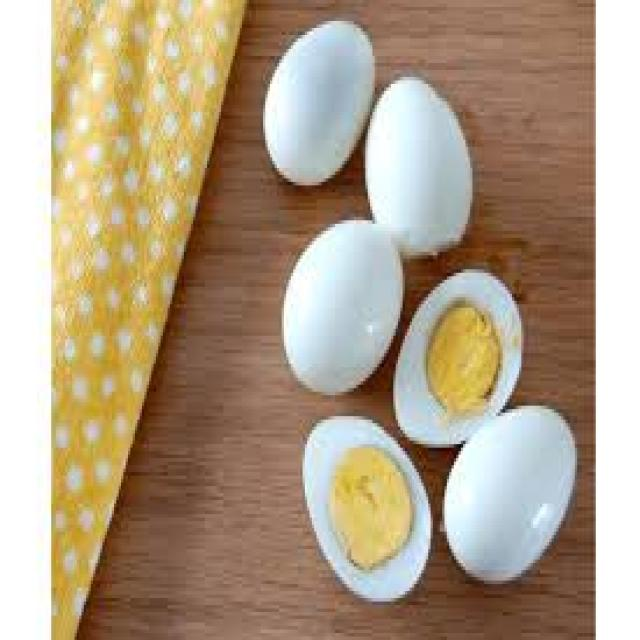boiled egg: (443, 406, 577, 584), (303, 417, 432, 601), (394, 270, 523, 447), (282, 221, 404, 395), (366, 77, 472, 258), (263, 21, 374, 185)
